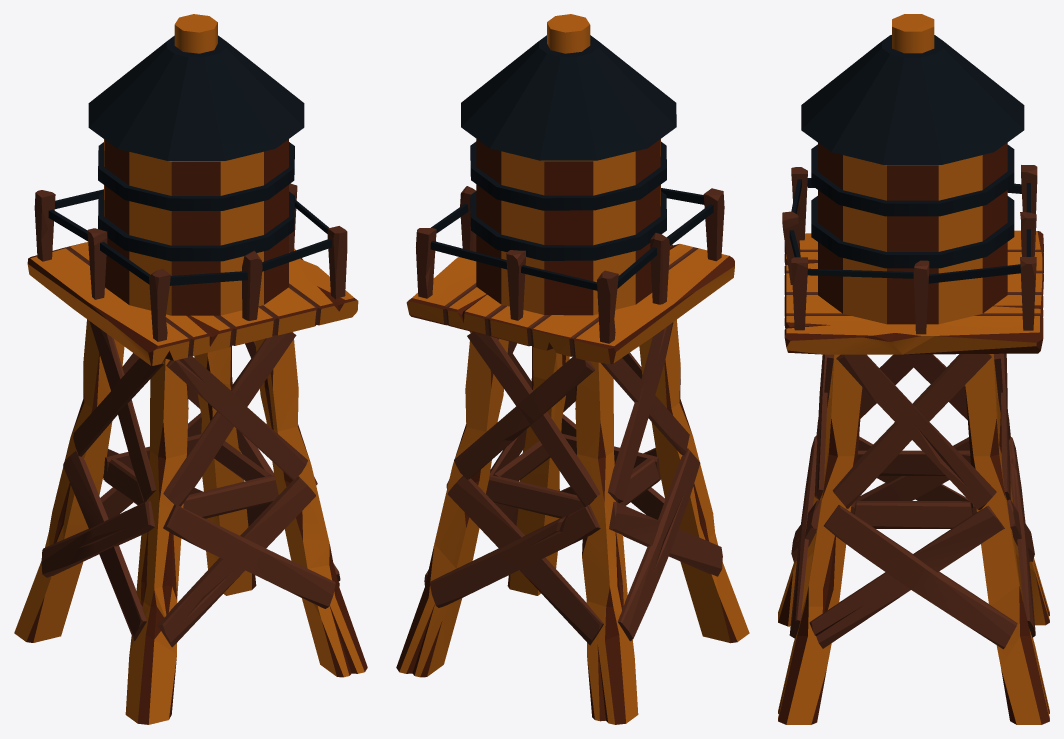
Rendered from WaterTower_1.fbx.
The picture shows the model from 3 angles, left to right: view 1: azimuth 30°, elevation 25°; view 2: azimuth 150°, elevation 25°; view 3: azimuth 270°, elevation 25°; orthographic projection. The views are drawn at different scales.
Visible parts, largest first — view 1: WaterTower_1; view 2: WaterTower_1; view 3: WaterTower_1.
Boxes of the visible parts, box(x1,y1,x2,y2) form: WaterTower_1: box(14, 14, 367, 724); WaterTower_1: box(396, 14, 749, 724); WaterTower_1: box(778, 14, 1049, 724).
Bounding box in the file's own units: 129 × 335 × 128.
